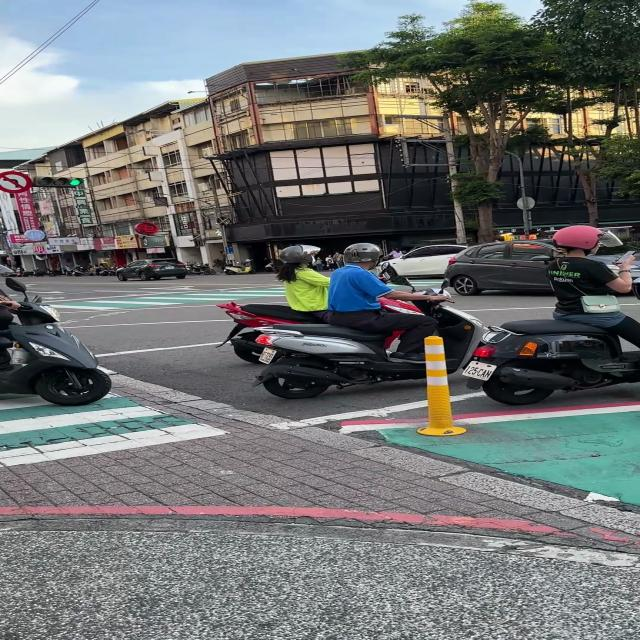Flexible_delineator_post: (417, 336, 465, 436)
car: (443, 240, 558, 295), (377, 244, 468, 279), (117, 259, 188, 281)
crosswalk: (0, 392, 237, 472), (45, 286, 287, 310)
motocycle: (463, 320, 640, 405), (0, 279, 110, 405), (254, 324, 426, 399), (218, 301, 324, 364), (412, 301, 483, 372), (421, 289, 450, 296)
